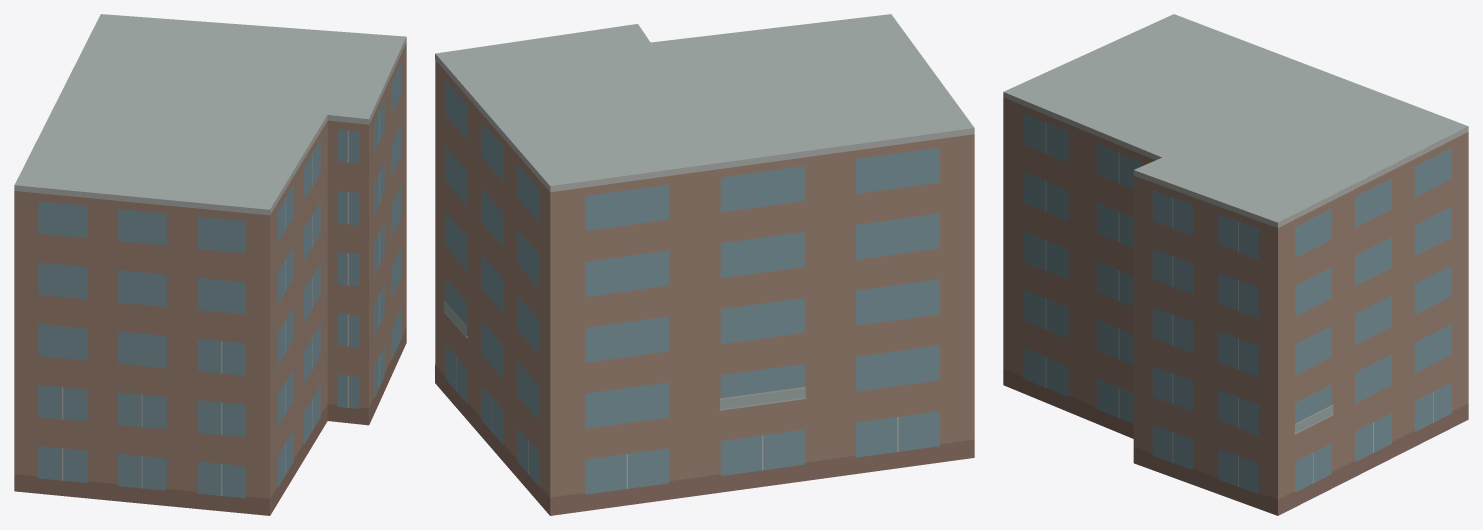
The model's file is survey-upis-32526073.glb.
3 views of the same model, side by side, from view 1: azimuth 30°, elevation 25°; view 2: azimuth 150°, elevation 25°; view 3: azimuth 270°, elevation 25° (orthographic). The views are drawn at different scales.
Visible parts, largest first — view 1: survey-upis-32526073.tmp; view 2: survey-upis-32526073.tmp; view 3: survey-upis-32526073.tmp.
Boxes of the visible parts, bbox=[...] form: survey-upis-32526073.tmp: bbox=[14, 14, 406, 515]; survey-upis-32526073.tmp: bbox=[435, 14, 974, 515]; survey-upis-32526073.tmp: bbox=[1003, 14, 1468, 515].
Bounding box in the file's own units: 20.16 × 13.2 × 19.
